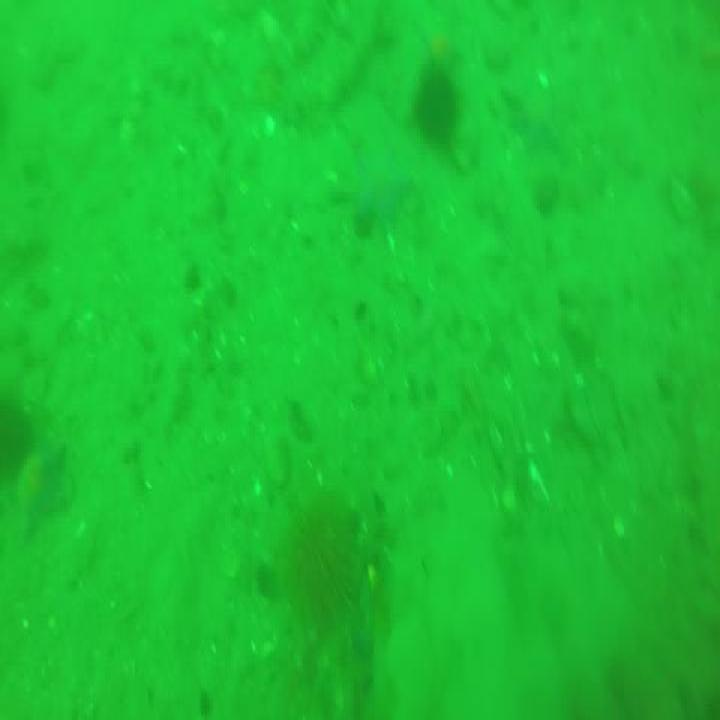echinus: (289, 501, 363, 608), (409, 60, 457, 137), (0, 395, 33, 484)
starfish: (357, 148, 415, 228), (507, 86, 558, 148)
